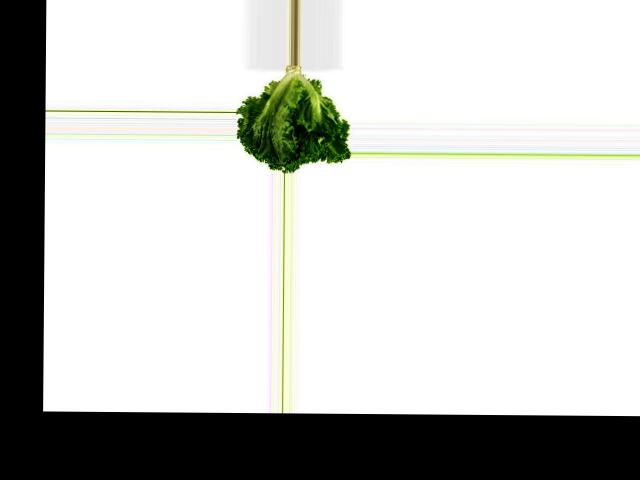lettuce: (236, 64, 350, 172)
